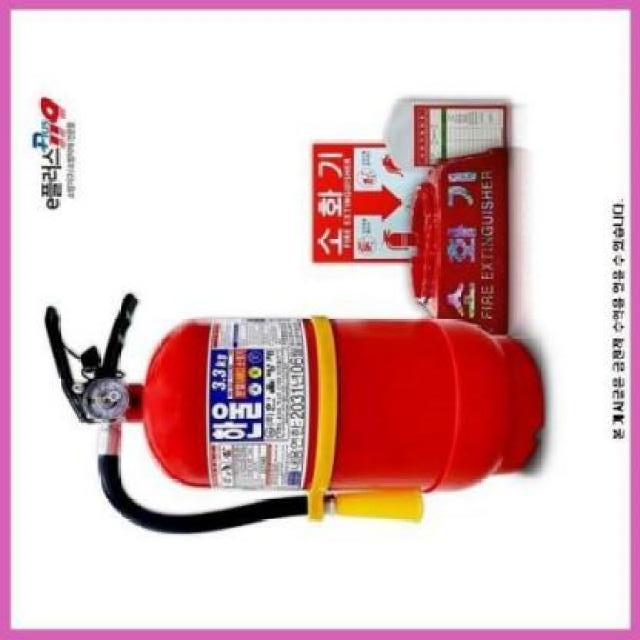fire extinguisher: (44, 294, 545, 534)
